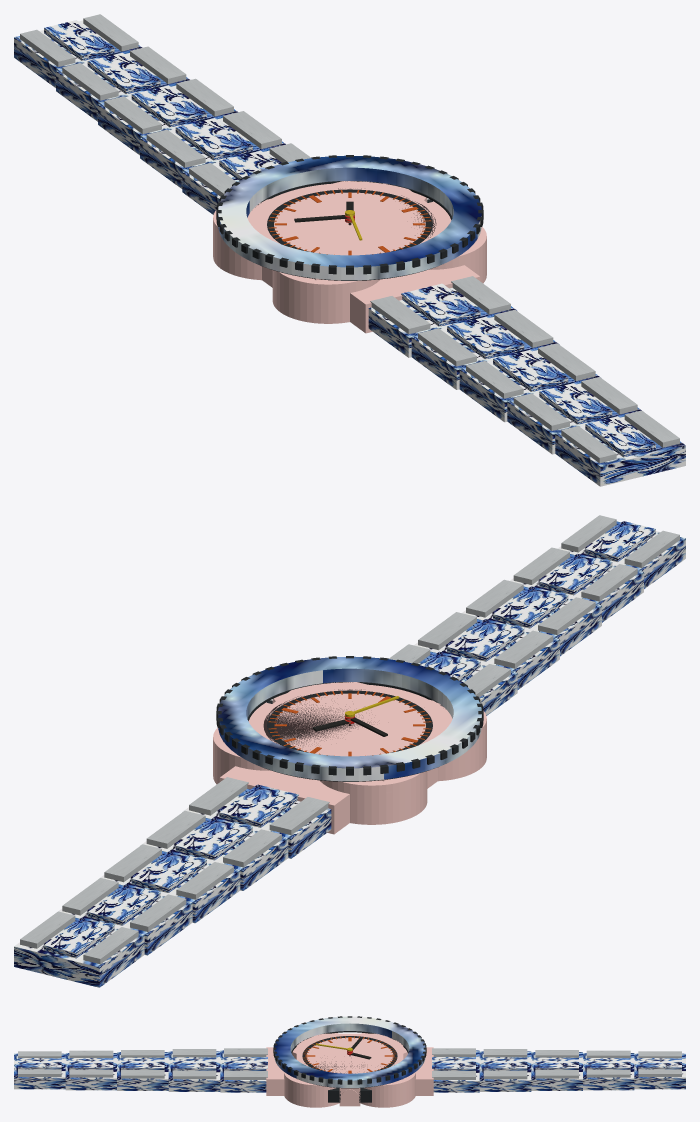
Rendered from watch__0698.glb.
3 views of the same model, one above another, from view 1: azimuth 30°, elevation 25°; view 2: azimuth 150°, elevation 25°; view 3: azimuth 270°, elevation 25° (orthographic). The views are drawn at different scales.
Parts seen in each view (by area): view 1: bezel::bezel_ring, case::case_body, case::case_cushion_lobe_2, bottom_strap_4::strap_body, case::bottom_lug_bridge, bottom_strap_0::dark_center, bottom_strap_1::dark_center, top_strap_1::dark_center, top_strap_2::dark_center, bottom_strap_2::dark_center, bottom_strap_3::dark_center, top_strap_3::dark_center (+34 smaller); view 2: bezel::bezel_ring, case::case_body, case::case_cushion_lobe_1, top_strap_4::strap_body, case::top_lug_bridge, top_strap_0::dark_center, bottom_strap_1::dark_center, top_strap_1::dark_center, case::dial_disc, bottom_strap_2::dark_center, top_strap_2::dark_center, top_strap_3::dark_center (+35 smaller); view 3: bezel::bezel_ring, case::case_body, case::case_cushion_lobe_0, case::case_cushion_lobe_3, bottom_strap_1::strap_body, top_strap_1::strap_body, bottom_strap_3::strap_body, top_strap_3::strap_body, bottom_strap_2::strap_body, top_strap_2::strap_body, bottom_strap_4::strap_body, top_strap_4::strap_body (+40 smaller).
Boxes of the visible parts, box(x1,y1,x2,y2) form: bezel::bezel_ring: box(218, 155, 481, 280); case::case_body: box(247, 181, 476, 287); case::case_cushion_lobe_2: box(272, 270, 380, 323); bottom_strap_4::strap_body: box(555, 416, 685, 486); case::bottom_lug_bridge: box(350, 265, 480, 333); bottom_strap_0::dark_center: box(401, 283, 480, 326); bottom_strap_1::dark_center: box(447, 317, 524, 359); top_strap_1::dark_center: box(175, 118, 252, 160); top_strap_2::dark_center: box(131, 85, 206, 127); bottom_strap_2::dark_center: box(493, 350, 568, 391); bottom_strap_3::dark_center: box(539, 383, 612, 424); top_strap_3::dark_center: box(87, 52, 160, 94); bezel::bezel_ring: box(218, 656, 481, 781); case::case_body: box(223, 682, 452, 788); case::case_cushion_lobe_1: box(319, 771, 427, 824); top_strap_4::strap_body: box(14, 917, 144, 987); case::top_lug_bridge: box(219, 766, 349, 834); top_strap_0::dark_center: box(219, 784, 298, 827); bottom_strap_1::dark_center: box(447, 619, 524, 661); top_strap_1::dark_center: box(175, 818, 252, 860); case::dial_disc: box(263, 689, 369, 745); bottom_strap_2::dark_center: box(493, 586, 568, 628); top_strap_2::dark_center: box(131, 851, 206, 892); top_strap_3::dark_center: box(87, 884, 160, 925); bezel::bezel_ring: box(274, 1016, 425, 1087); case::case_body: box(296, 1033, 403, 1079); case::case_cushion_lobe_0: box(360, 1072, 415, 1107); case::case_cushion_lobe_3: box(284, 1072, 339, 1107); bottom_strap_1::strap_body: box(168, 1051, 220, 1091); top_strap_1::strap_body: box(479, 1051, 531, 1091); bottom_strap_3::strap_body: box(65, 1053, 116, 1090); top_strap_3::strap_body: box(583, 1053, 634, 1090); bottom_strap_2::strap_body: box(117, 1052, 168, 1090); top_strap_2::strap_body: box(531, 1052, 582, 1090); bottom_strap_4::strap_body: box(14, 1053, 65, 1089); top_strap_4::strap_body: box(634, 1053, 685, 1089).
Size of the model in its own units: 0.0595 by 0.0134 by 0.2607.
Materials: 9 (9 with a texture image).
